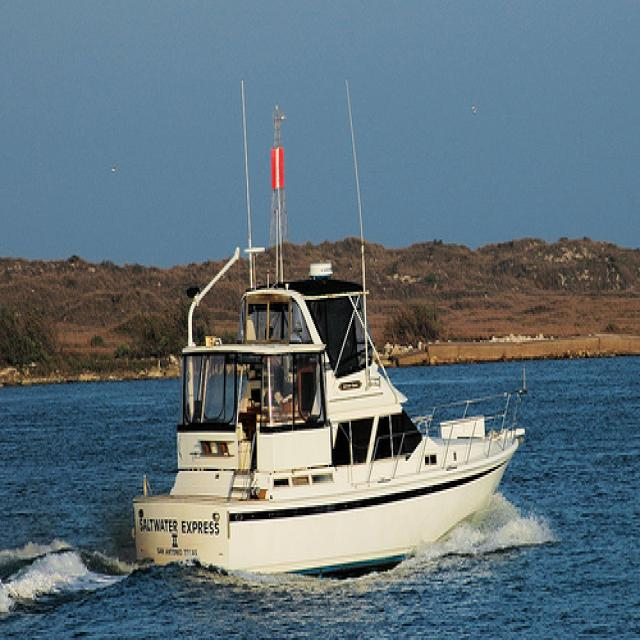boat: (132, 102, 527, 581)
